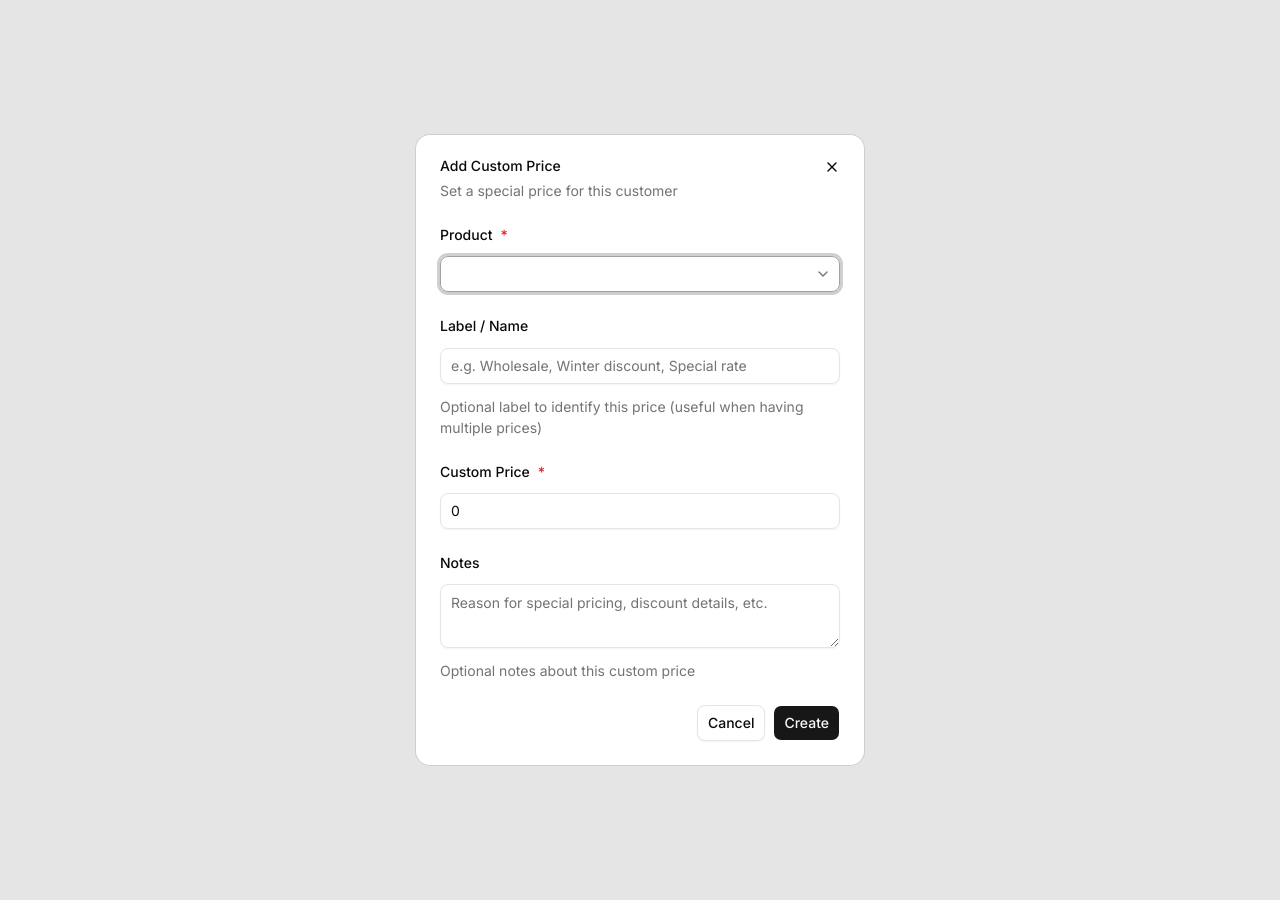
Test: CustomPriceModal — states (T21, AC-16, AC-31) › F-04: a negative price is kept as negative and rejected, instead of being silently turned positive
Replace the text in the field labelled "Custom Price *" with "-5" at x=640, y=511, box x1=440 y1=493 x2=840 y2=529
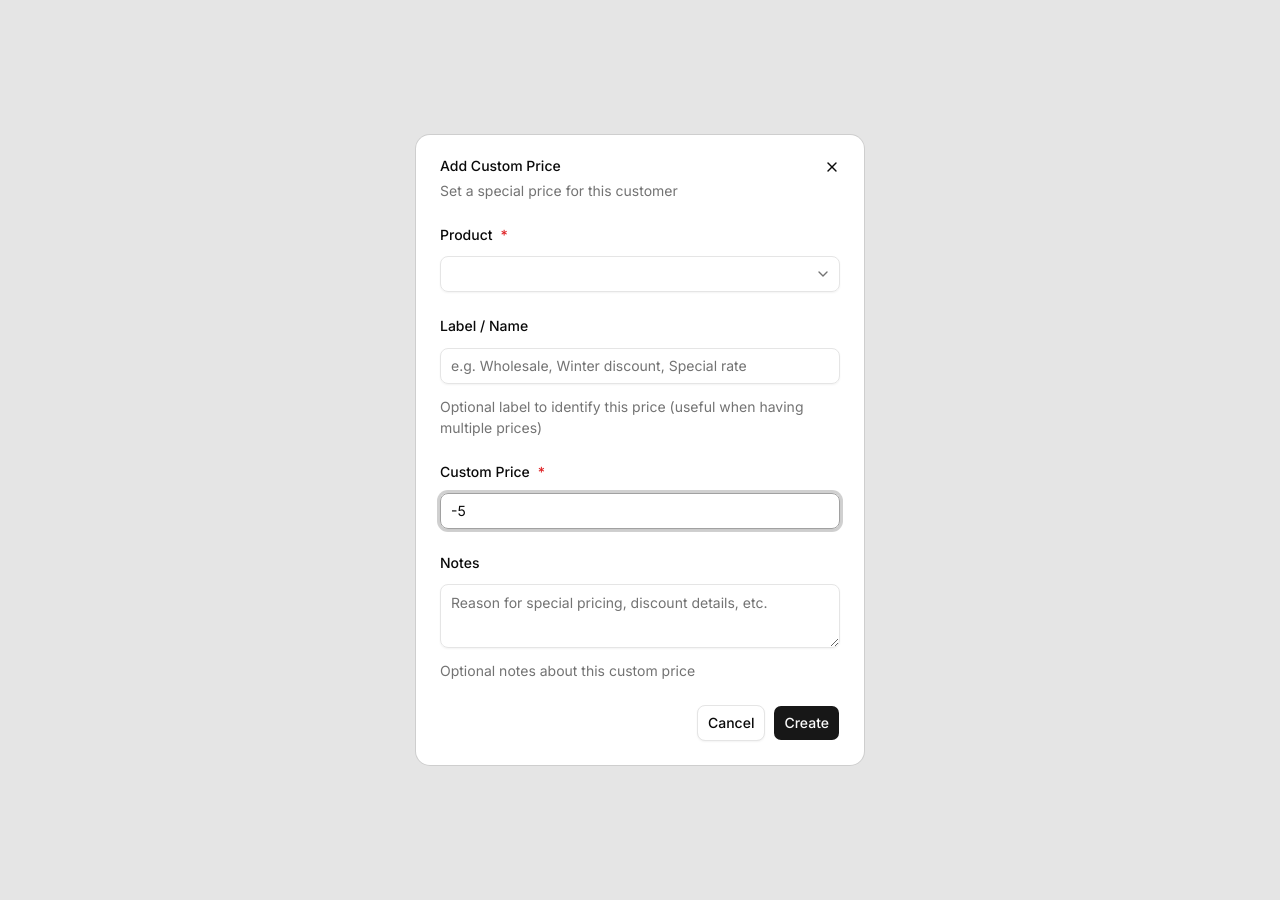
Click the button "Create" at x=807, y=723, box x1=773 y1=705 x2=840 y2=741
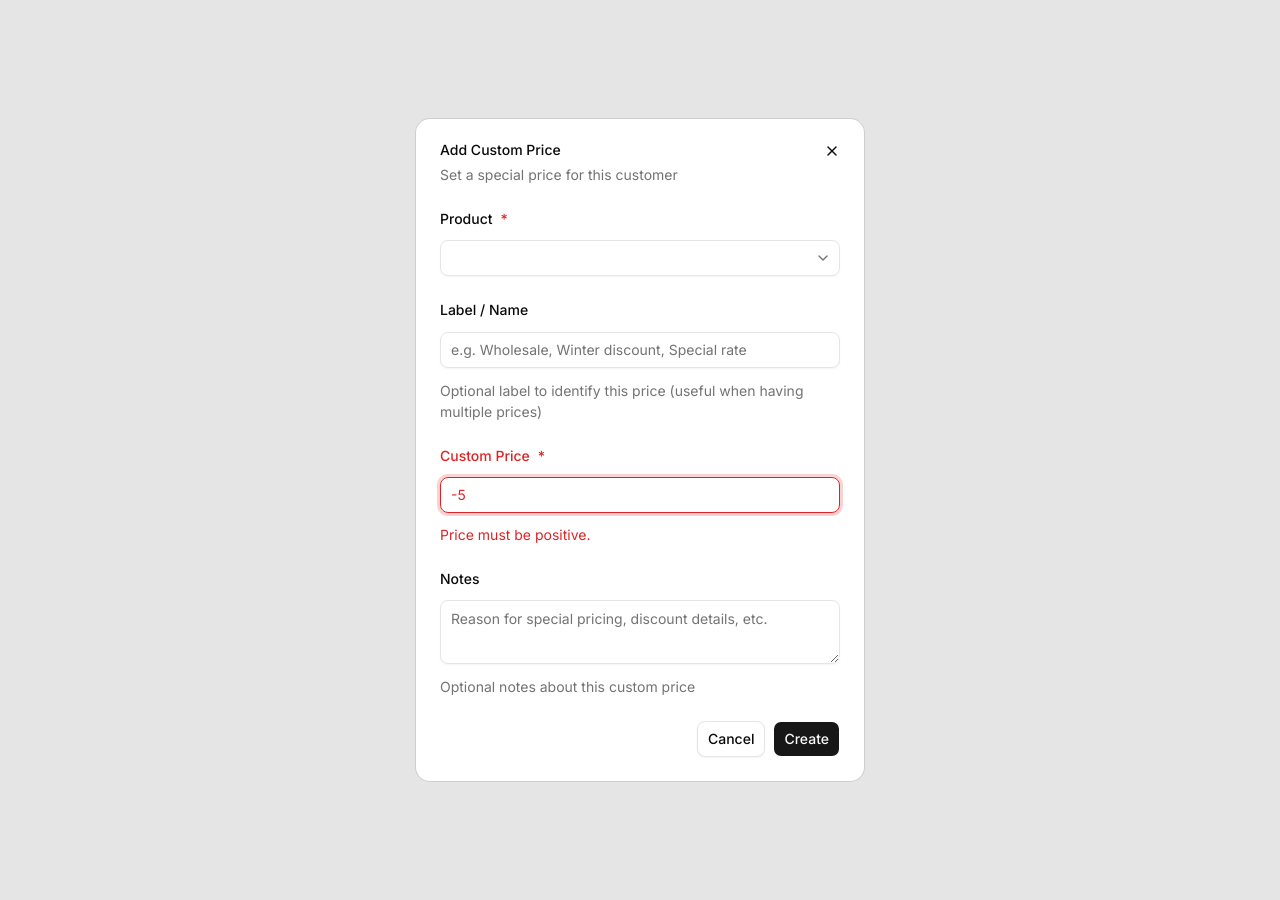
Check: the text "Price must be positive." is shown, box x1=440 y1=526 x2=590 y2=543
